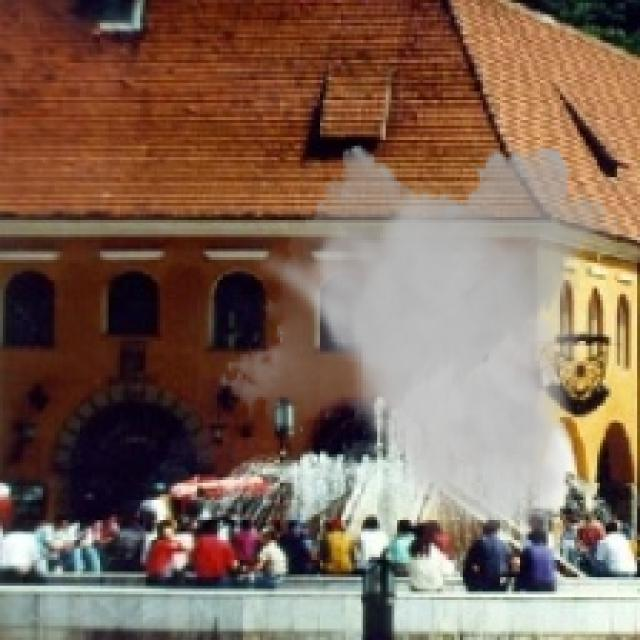Smoke: (217, 135, 620, 554)
